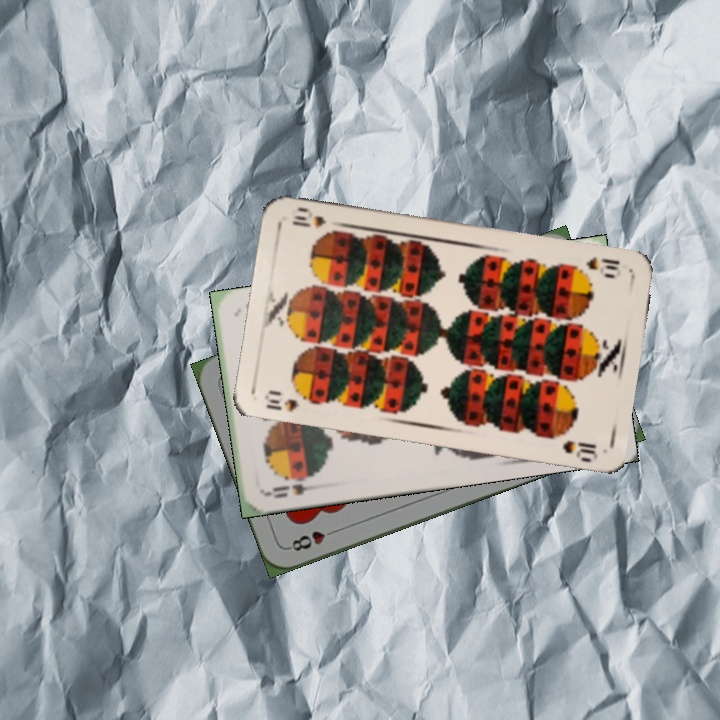H8: (285, 524, 342, 554)
S10: (260, 386, 315, 415), (582, 253, 622, 273)
SO: (264, 480, 323, 501)
